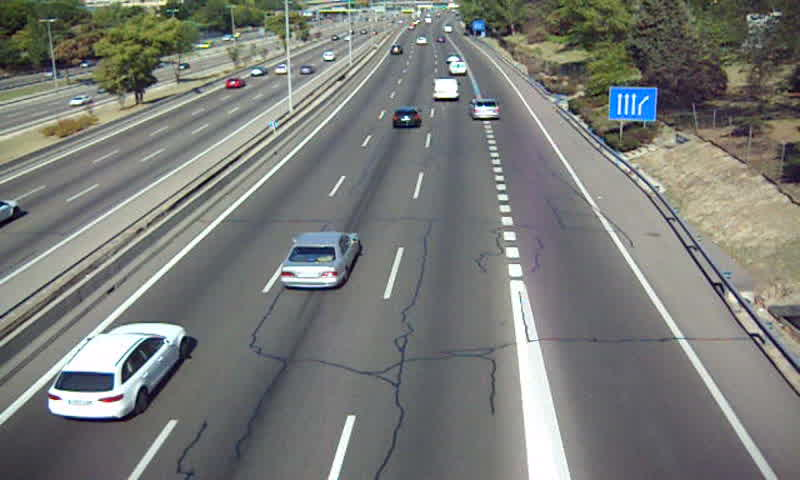car: (48, 323, 187, 419), (278, 230, 362, 290), (471, 97, 502, 121), (391, 107, 421, 130)
van: (432, 78, 460, 101), (450, 60, 467, 76)
